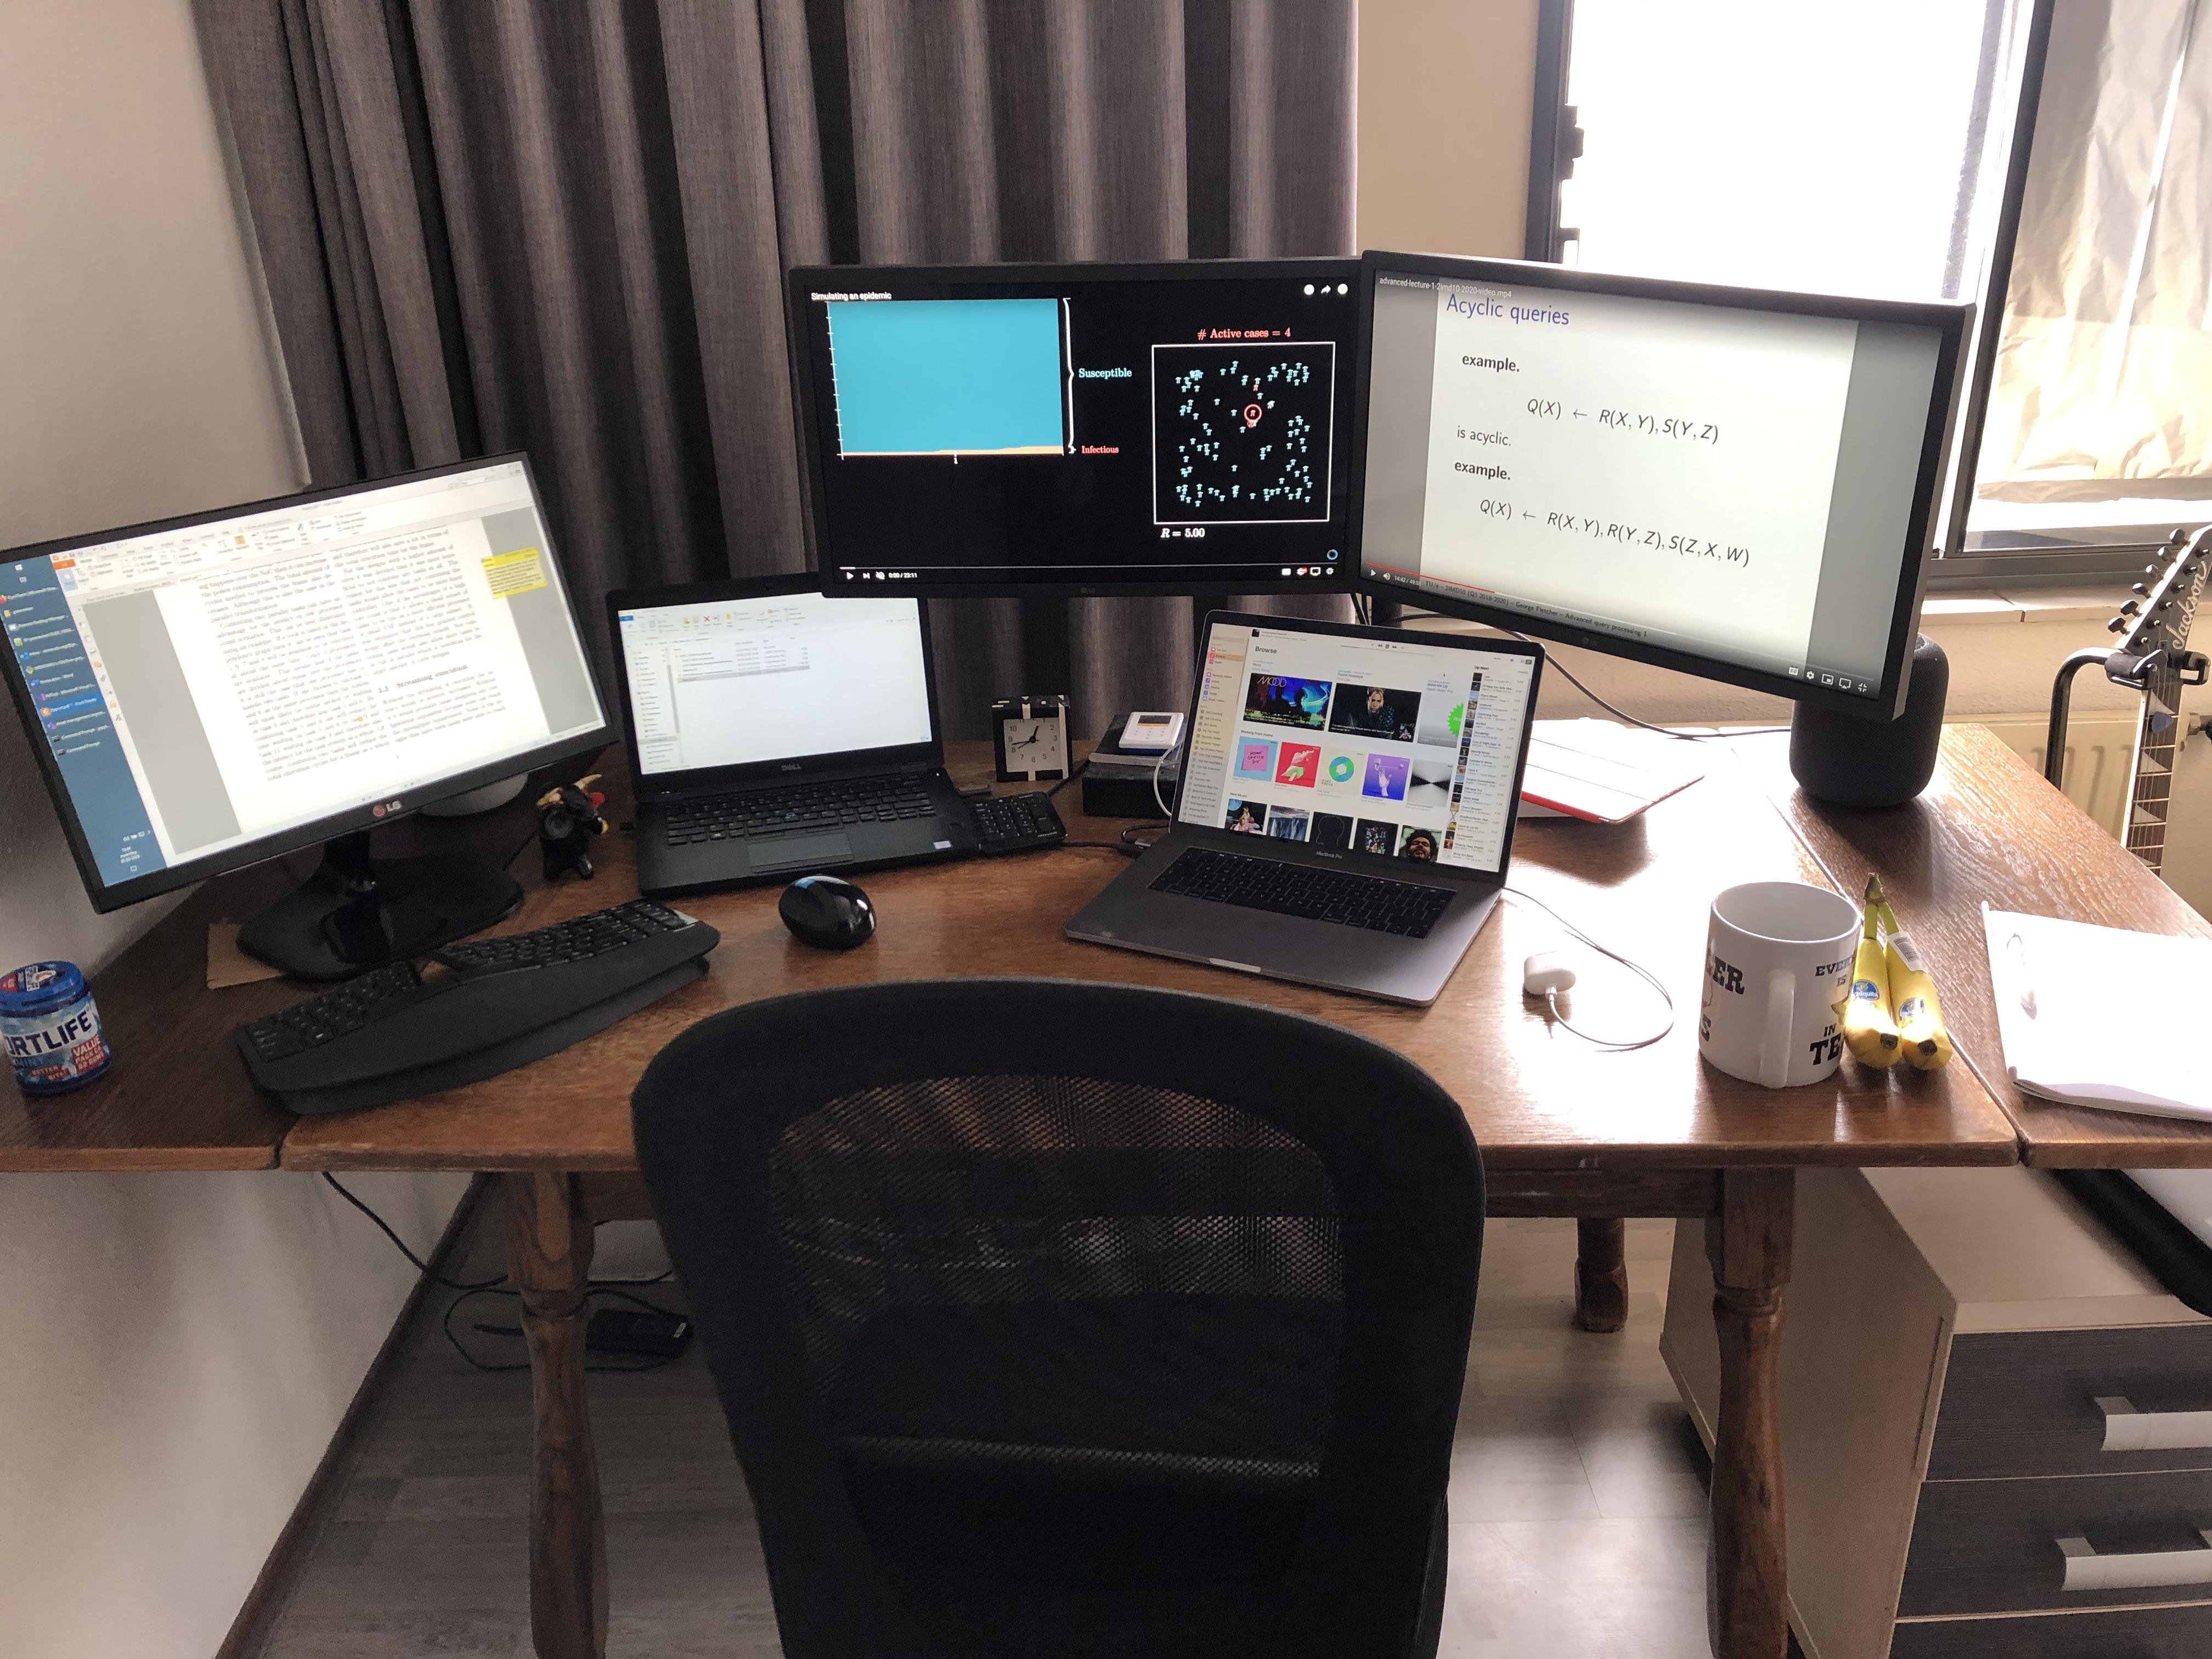Airpods (Apple): (1512, 948, 1581, 1002)
Chair (Generic): (624, 972, 1491, 1654)
Decoration (Clock): (982, 695, 1078, 786)
Desk (Generic): (0, 720, 2210, 1659)
External Numpad: (960, 784, 1073, 866)
IoT Devices (Raspberry, Arduino, etc): (1789, 634, 1951, 802)
Keyboard (Ergonomic): (211, 897, 719, 1140)
Laptop (OSX): (1055, 608, 1547, 1012)
Laptop (Windows): (604, 579, 991, 896)
Monitor (Landscape): (1352, 244, 1986, 716), (0, 453, 622, 911), (765, 249, 1352, 601)
Monitor (Laptop): (1151, 633, 1545, 894), (610, 575, 930, 798)
Monitor Arm: (1284, 559, 1458, 645)
Mouse (Ergonomic): (775, 868, 890, 951)
Mug: (1696, 875, 1864, 1091)
Musical Instrument (Electric Guitar): (2099, 500, 2212, 887)
Storage Drawer: (1669, 1164, 2212, 1659)
